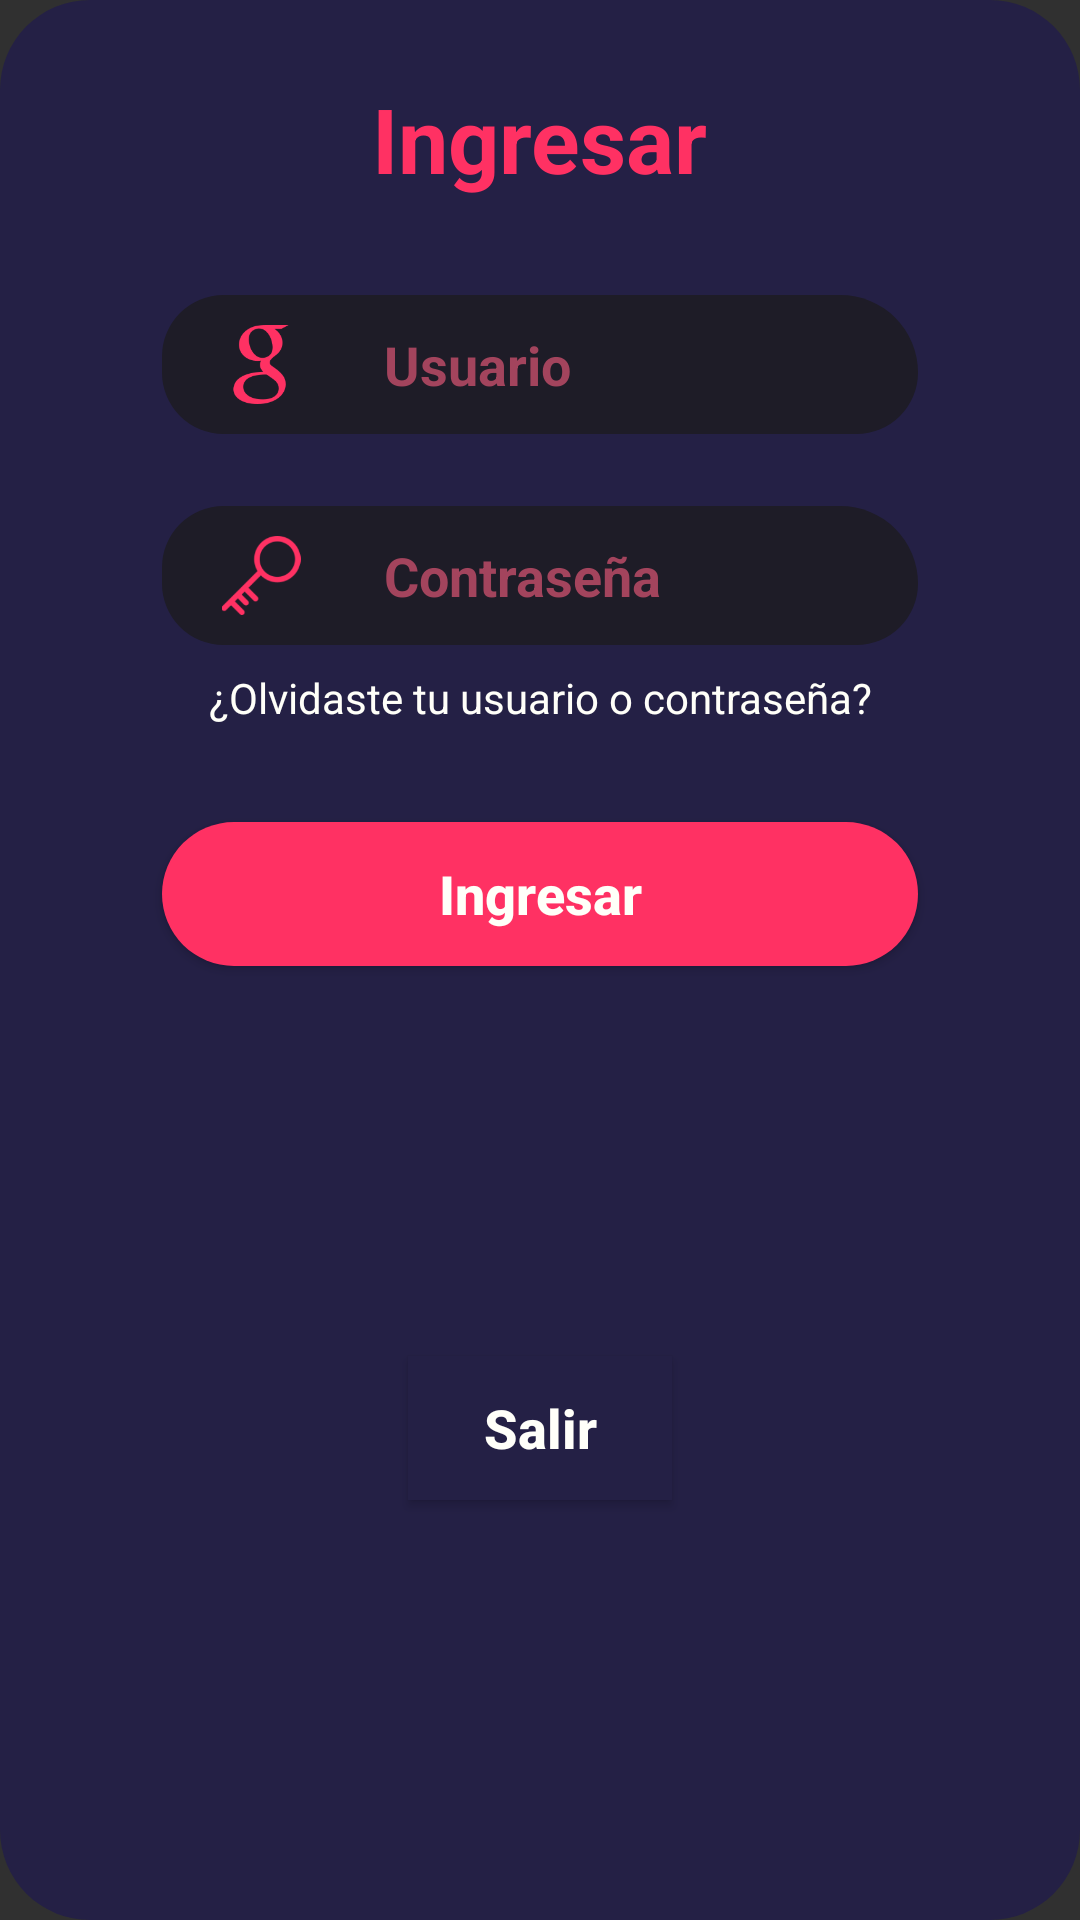

Icon bounding boxes for this 1080x1920 phone screenshot, format bbox=(x1, y1, x2, y2):
key: bbox=(222, 536, 301, 615)
